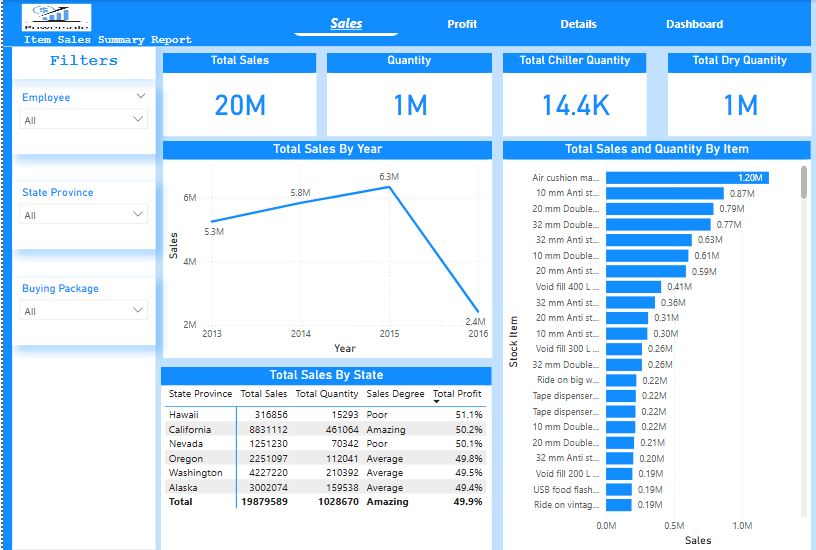

Layout of this report page (visuals, bound fields, positions):
{"tool":"powerbi","page":{"name":"Sales","canvas":[1280,720],"ordinal":0},"visuals":[{"type":"shape","box":[12.2,61.1,187.8,473.3],"z":0},{"type":"shape","box":[0,0,1057.8,61.1],"z":1000},{"type":"image","box":[20,0,101.1,45.6],"z":2000},{"type":"textbox","box":[22,36,244.4,32],"z":3000},{"type":"shape","box":[0,61.1,12.2,658.9],"z":4000},{"type":"card","title":"Total Sales","fields":{"Values":["Sum(FactSale.Total Excluding Tax)"]},"box":[208.9,70,201.1,108.9],"z":5000},{"type":"card","title":"Quantity","fields":{"Values":["Sum(FactSale.Quantity)"]},"box":[424.4,70,215.6,108.9],"z":6000},{"type":"card","title":"Total Dry Quantity","fields":{"Values":["Sum(FactSale.Total Dry Items)"]},"box":[870,70,187.8,108.9],"z":7000},{"type":"card","title":"Total Chiller Quantity","fields":{"Values":["Sum(FactSale.Total Chiller Items)"]},"box":[654.4,70,187.8,108.9],"z":8000},{"type":"lineChart","title":"Total Sales By Year","fields":{"Category":["DimDate.Date.Variation.Date Hierarchy.Year","DimDate.Date.Variation.Date Hierarchy.Quarter","DimDate.Date.Variation.Date Hierarchy.Month","DimDate.Date.Variation.Date Hierarchy.Day"],"Y":["Sum(FactSale.Total Excluding Tax)"]},"box":[208.9,184.4,431.1,284.4],"z":9000},{"type":"barChart","title":"Total Sales and Quantity By Item","fields":{"Y":["Sum(FactSale.Total Excluding Tax)"],"Category":["DimStockItem.Stock Item"]},"box":[654.4,184.4,403.3,535.6],"z":10000},{"type":"pivotTable","title":"Total Sales By State","fields":{"Values":["Sum(FactSale.Total Excluding Tax)","Sum(FactSale.Quantity)","FactSale.sales switch","FactSale.Profitabilty"],"Rows":["DimCity.State Province"]},"box":[206.7,480,433.3,240],"z":11000},{"type":"shape","box":[12.2,61.1,187.8,658.9],"z":12000},{"type":"slicer","fields":{"Values":["DimEmployee.Employee"]},"box":[12.2,114.4,187.8,87.8],"z":13000},{"type":"textbox","box":[12.2,61.1,187.8,42.2],"z":14000},{"type":"slicer","title":"State","fields":{"Values":["DimCity.State Province"]},"box":[12.2,238.9,187.8,87.8],"z":15000},{"type":"slicer","fields":{"Values":["DimStockItem.Buying Package"]},"box":[12.2,364.4,187.8,87.8],"z":16000},{"type":"pageNavigator","box":[377.8,13.3,600,34.4],"z":17000}]}

Visuals, with their boxes on the page's 1280x720 design canvas (x1, y1, x2, y2). These are canvas units, not pixel positions in the 816x550 screenshot, which may show the page scaled, cropped or inside an application window:
shape: left=12, top=61, right=200, bottom=534
shape: left=0, top=0, right=1058, bottom=61
image: left=20, top=0, right=121, bottom=46
textbox: left=22, top=36, right=266, bottom=68
shape: left=0, top=61, right=12, bottom=720
"Total Sales" card: left=209, top=70, right=410, bottom=179
"Quantity" card: left=424, top=70, right=640, bottom=179
"Total Dry Quantity" card: left=870, top=70, right=1058, bottom=179
"Total Chiller Quantity" card: left=654, top=70, right=842, bottom=179
"Total Sales By Year" lineChart: left=209, top=184, right=640, bottom=469
"Total Sales and Quantity By Item" barChart: left=654, top=184, right=1058, bottom=720
"Total Sales By State" pivotTable: left=207, top=480, right=640, bottom=720
shape: left=12, top=61, right=200, bottom=720
slicer - DimEmployee.Employee: left=12, top=114, right=200, bottom=202
textbox: left=12, top=61, right=200, bottom=103
"State" slicer: left=12, top=239, right=200, bottom=327
slicer - DimStockItem.Buying Package: left=12, top=364, right=200, bottom=452
pageNavigator: left=378, top=13, right=978, bottom=48
